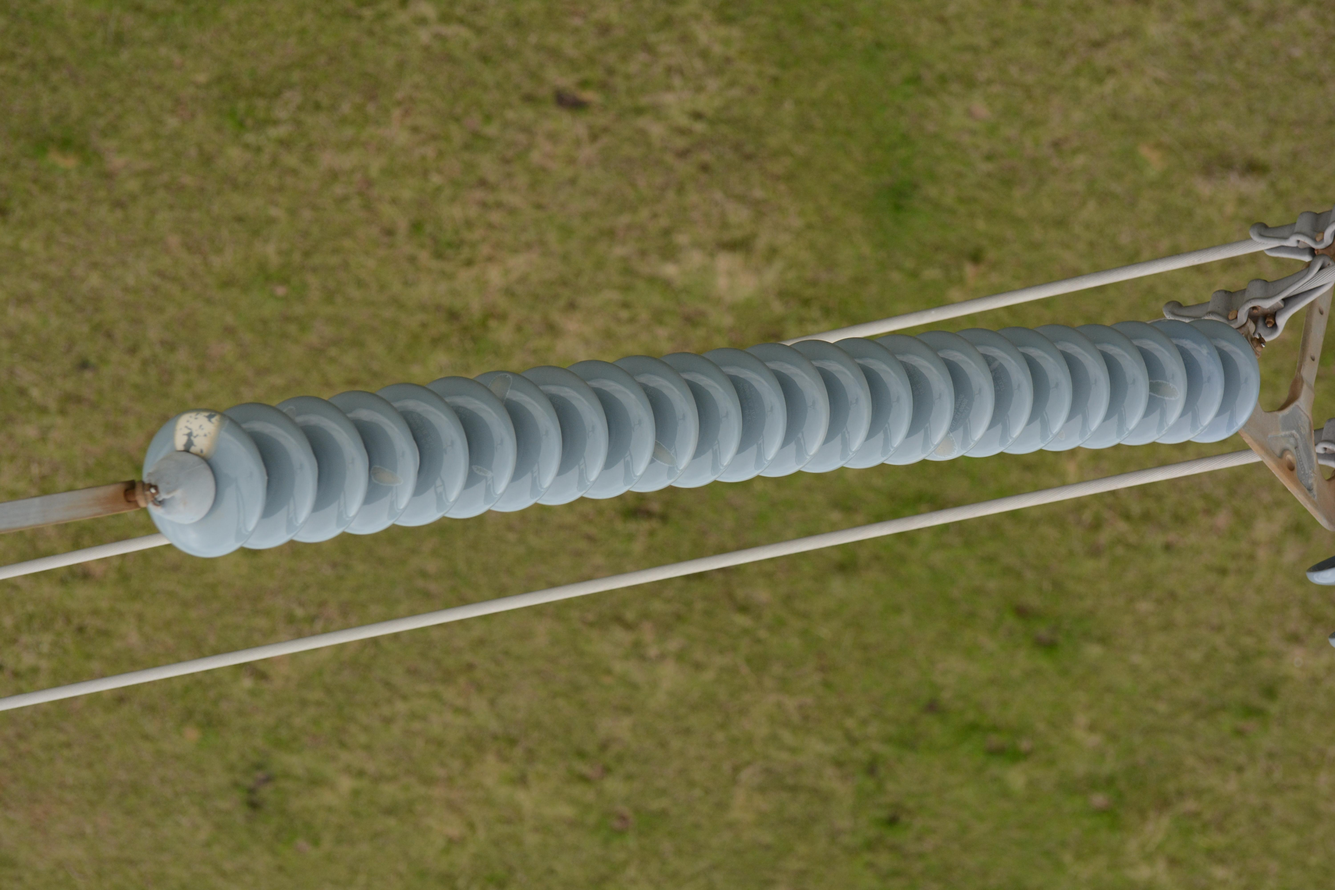Flashover: (173, 409, 220, 455), (485, 374, 514, 405), (369, 464, 405, 488), (1145, 380, 1181, 401), (934, 429, 958, 460), (651, 441, 678, 467)
insulator: (156, 319, 1258, 557)
